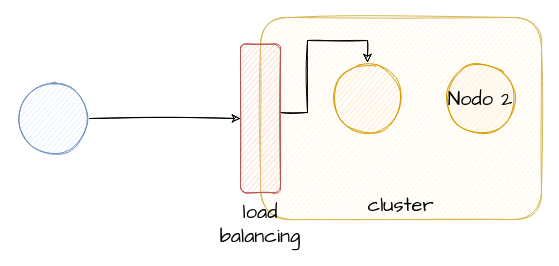
Image size: 559x266. Some labels were removed from this diagram. The centre of each missing label's shape, as x and y in pixels:
"C1" belongs at point (53, 118).
"Nodo 1" belongs at point (367, 98).
